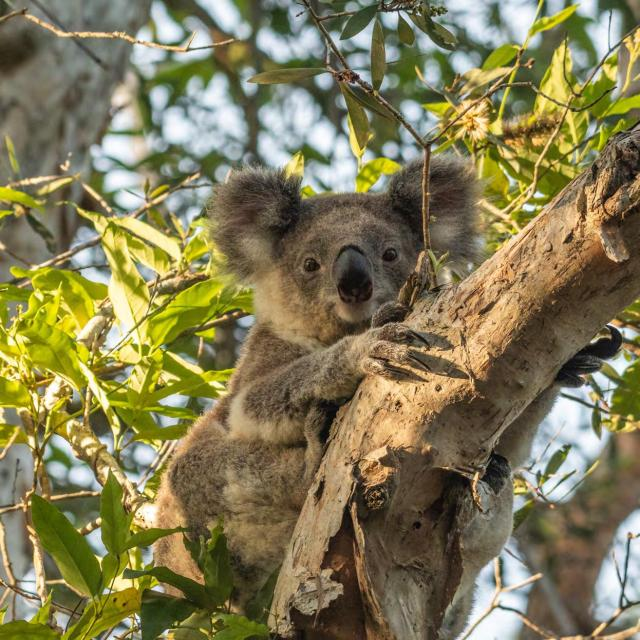Koala: (160, 161, 472, 594)
